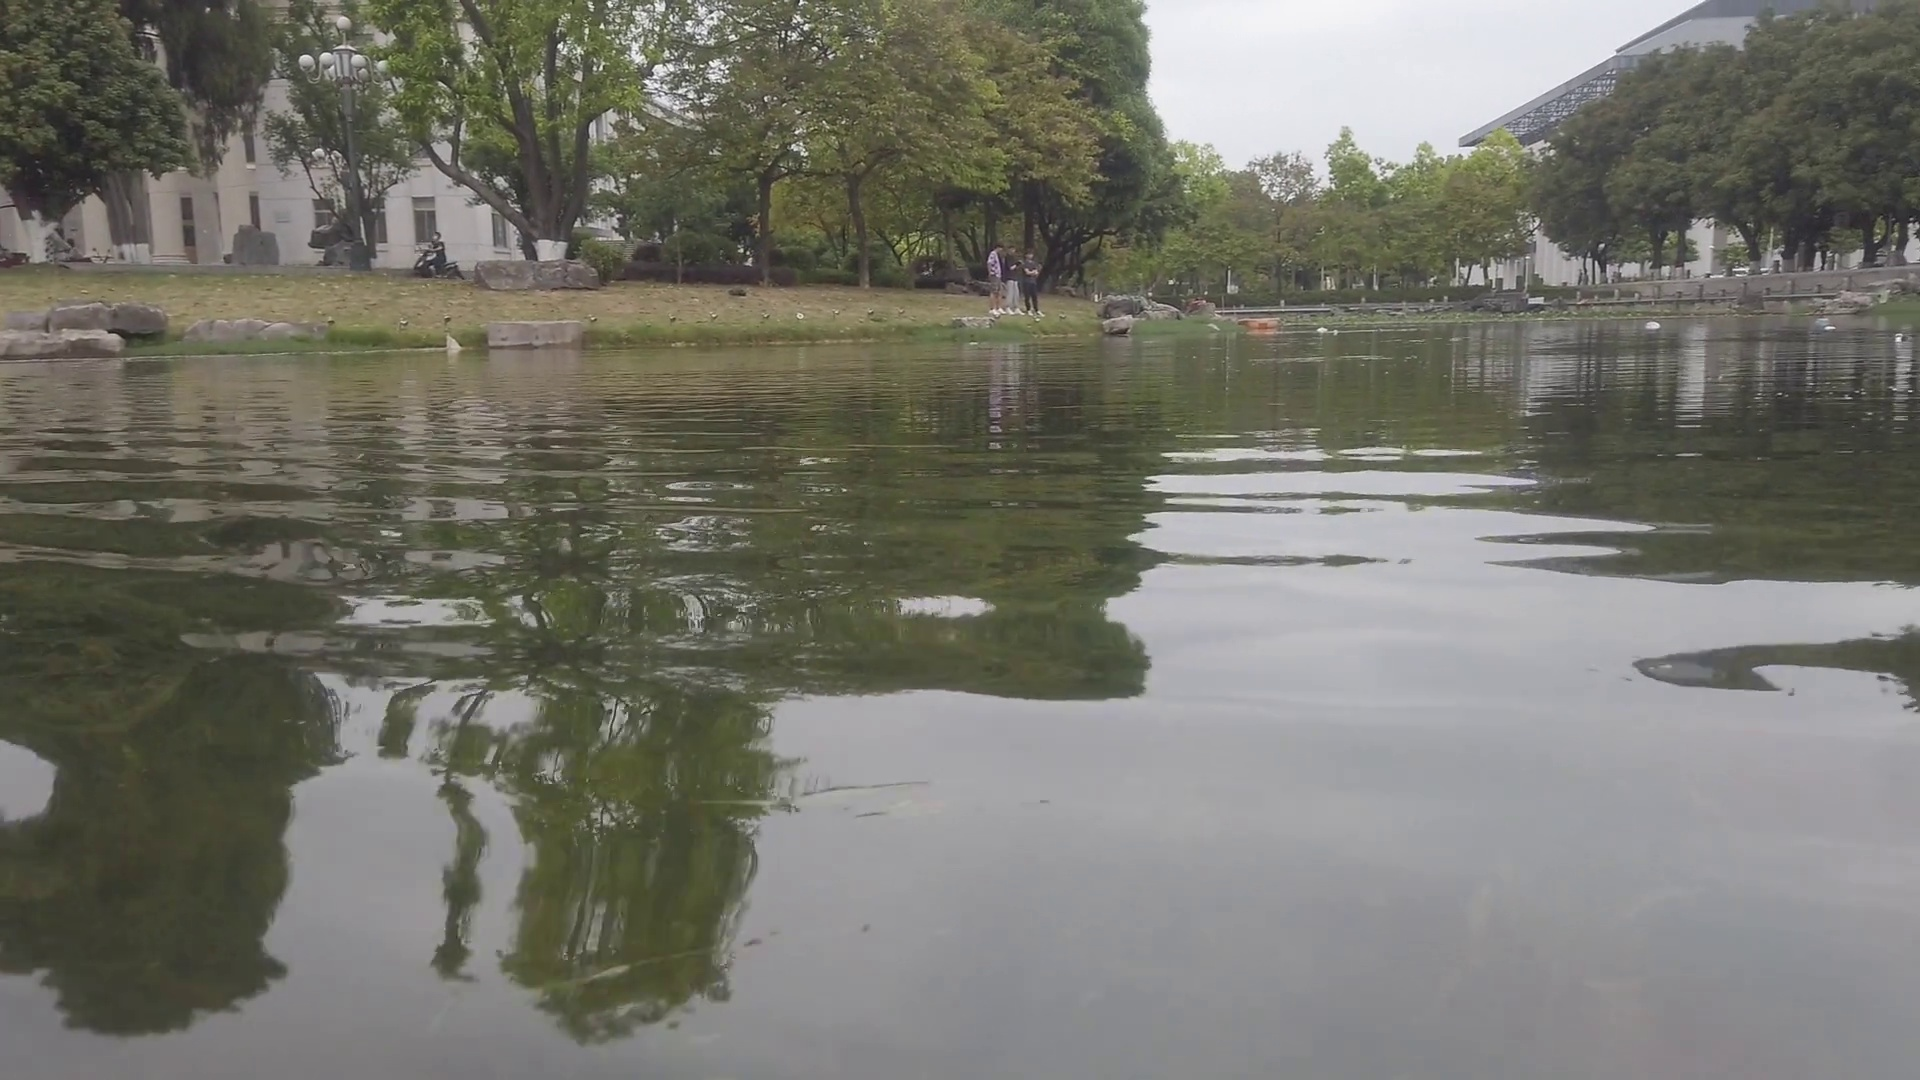plastic: (1646, 320, 1659, 330), (1317, 327, 1327, 332)
